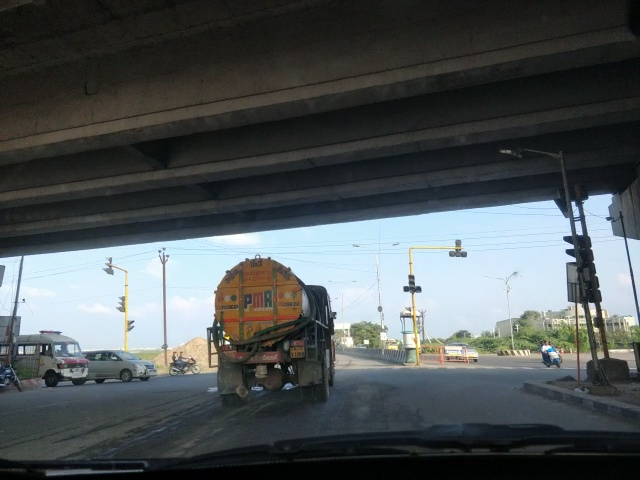car: (76, 349, 161, 380), (442, 339, 482, 364)
motorbike: (167, 350, 204, 376), (540, 339, 565, 370), (2, 362, 26, 394)
truck: (208, 255, 336, 402), (3, 331, 90, 384)
